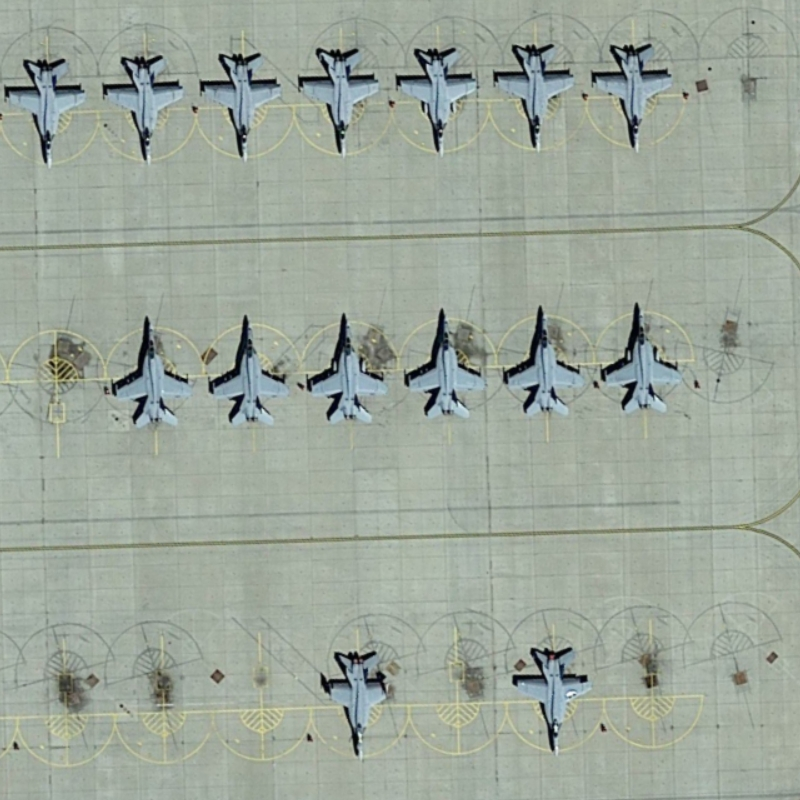A16: (587, 37, 679, 156), (106, 314, 198, 433), (99, 49, 189, 170), (489, 40, 579, 160), (597, 298, 687, 417), (197, 47, 287, 165), (1, 54, 92, 170), (306, 304, 390, 429), (295, 45, 383, 164), (401, 303, 488, 423), (395, 42, 482, 160), (206, 311, 292, 430), (501, 304, 589, 420), (512, 641, 596, 759), (322, 643, 393, 767)
